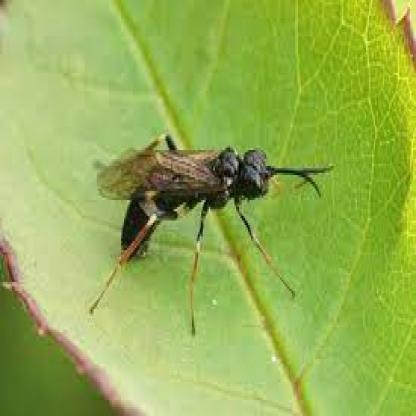sawfly: (87, 126, 339, 340)
